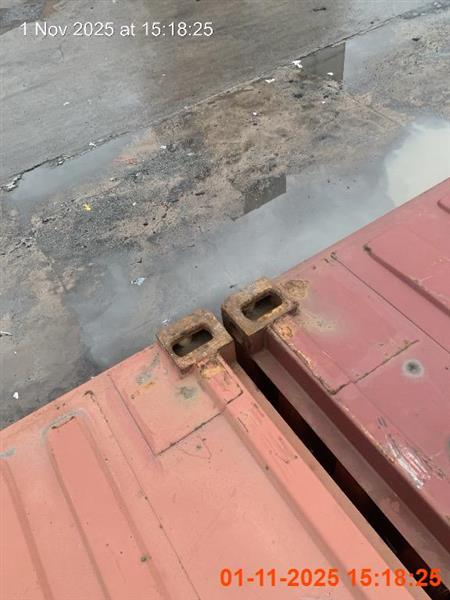broken: (0, 178, 449, 598)
